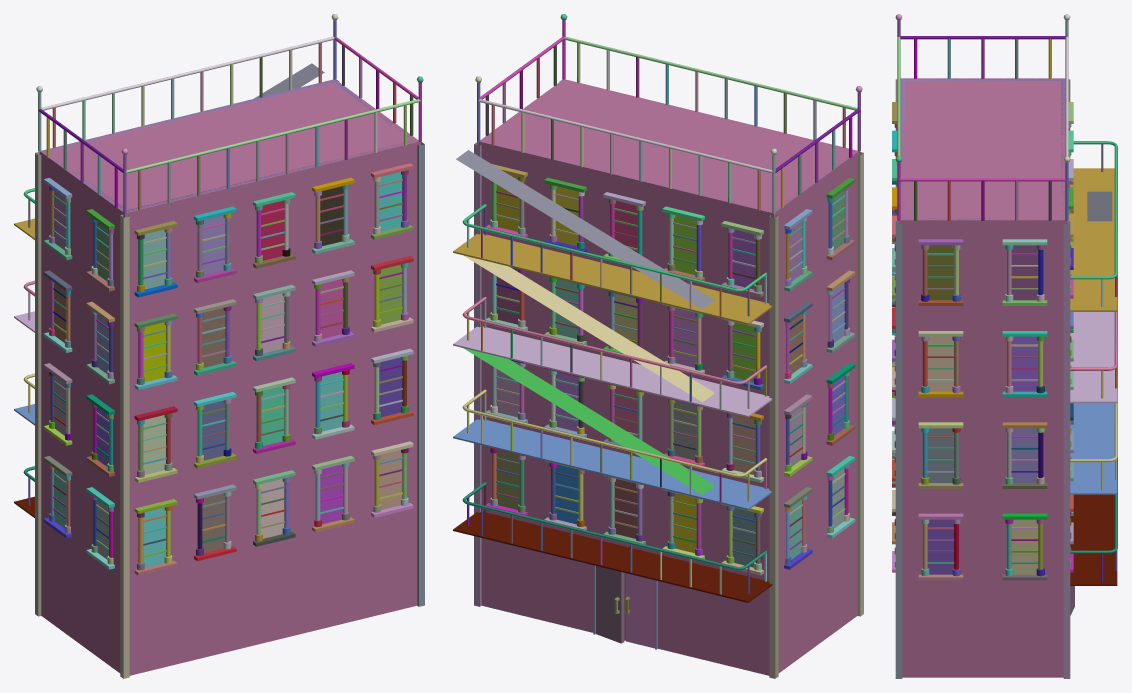
File: building_2.fbx
The picture shows the model from 3 angles, left to right: view 1: azimuth 30°, elevation 25°; view 2: azimuth 150°, elevation 25°; view 3: azimuth 270°, elevation 25°; orthographic projection.
Visible parts, largest first — view 1: Building Procedural.002; view 2: Building Procedural.002; view 3: Building Procedural.002.
Part boxes in pixels (left/top/right/bottom): Building Procedural.002: left=14, top=14, right=424, bottom=678; Building Procedural.002: left=453, top=14, right=863, bottom=678; Building Procedural.002: left=892, top=14, right=1117, bottom=678.
Bounding box in the file's own units: 1040 × 1710 × 671.
